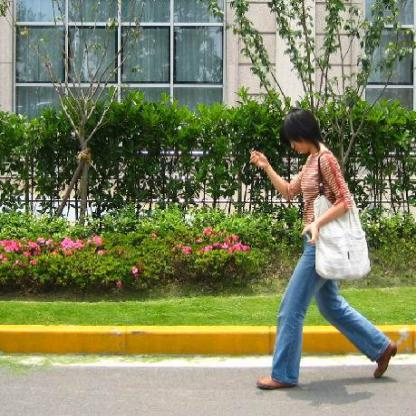person: (233, 108, 412, 394)
